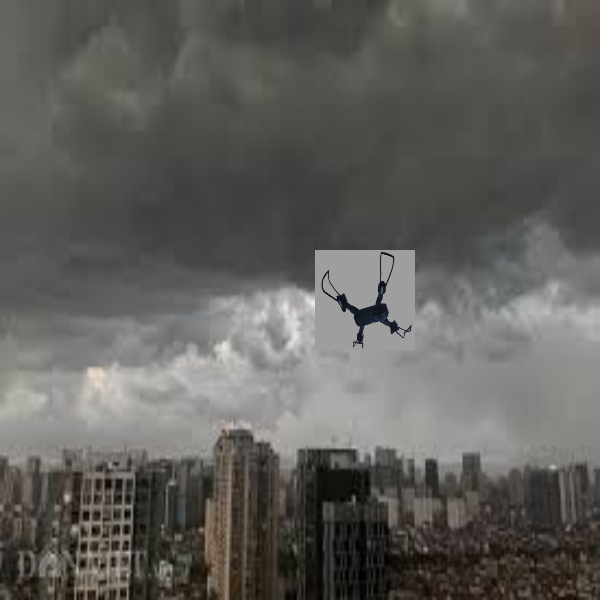drone: (320, 249, 419, 350)
